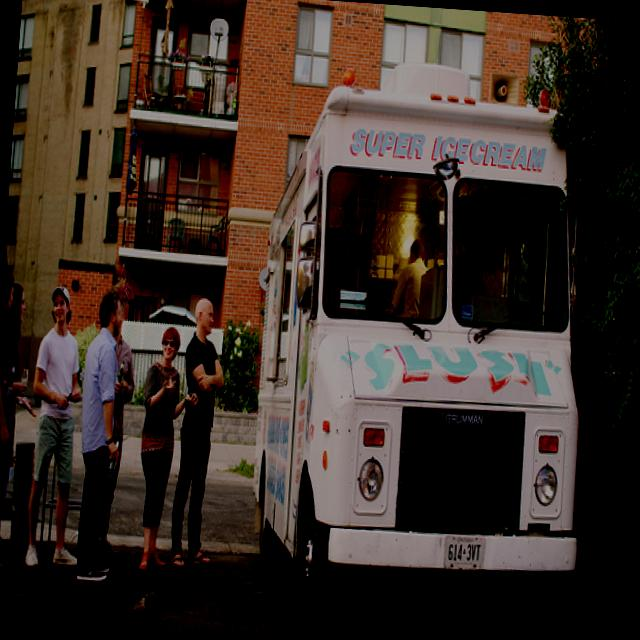Vehicle: (238, 55, 613, 640)
